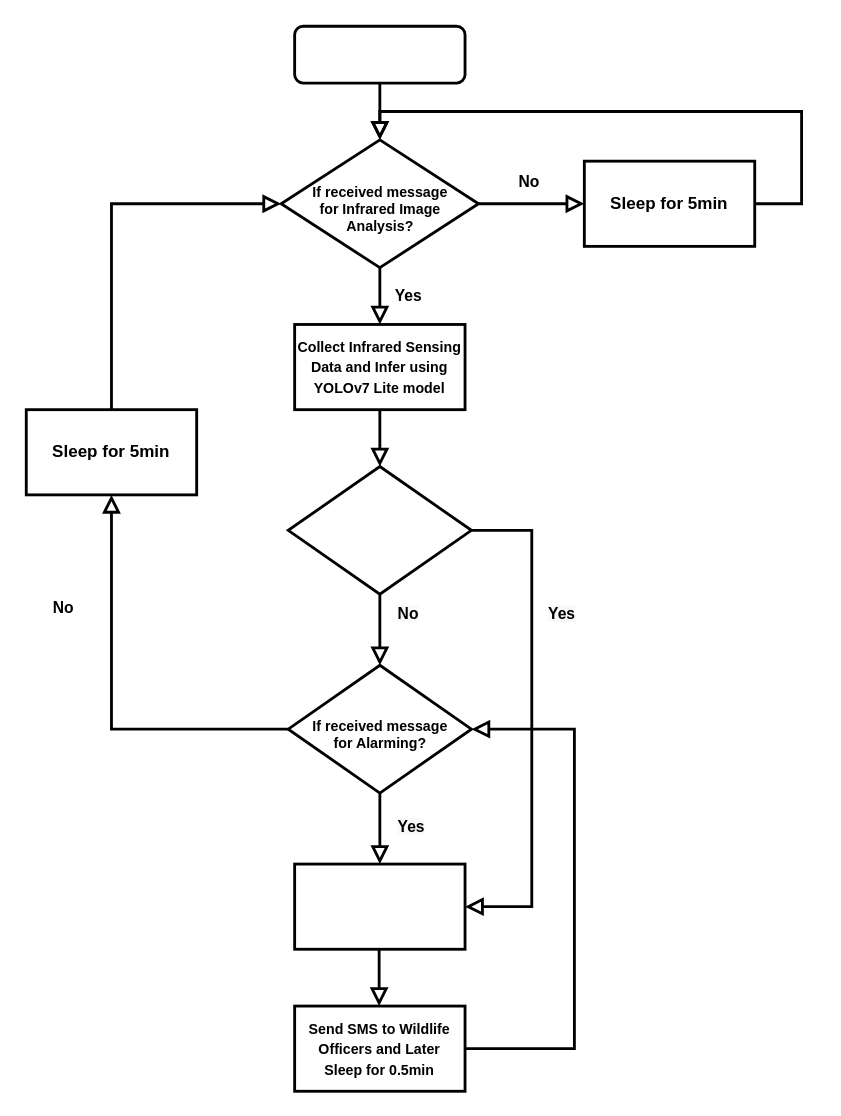
Some shapes in this 841 by 1116 pixel diagram are drawn without their labels. Each missing label, with the centre of its shape:
"Activate Alarming Siren System" goes at point 379,906.
"If detected elephants?" goes at point 379,529.
"Initialization of Raspberry Pi 3B+" goes at point 379,54.
